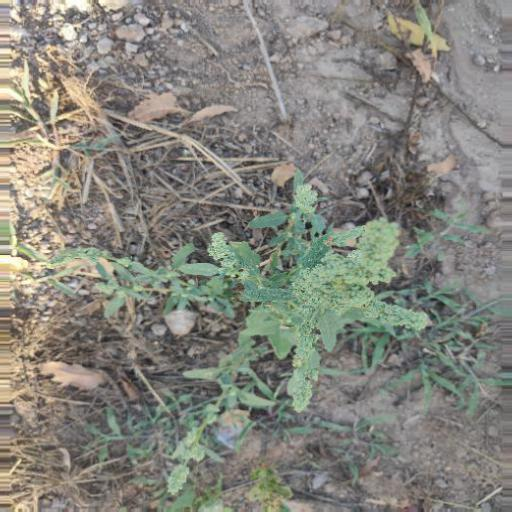weed: (86, 206, 449, 478)
